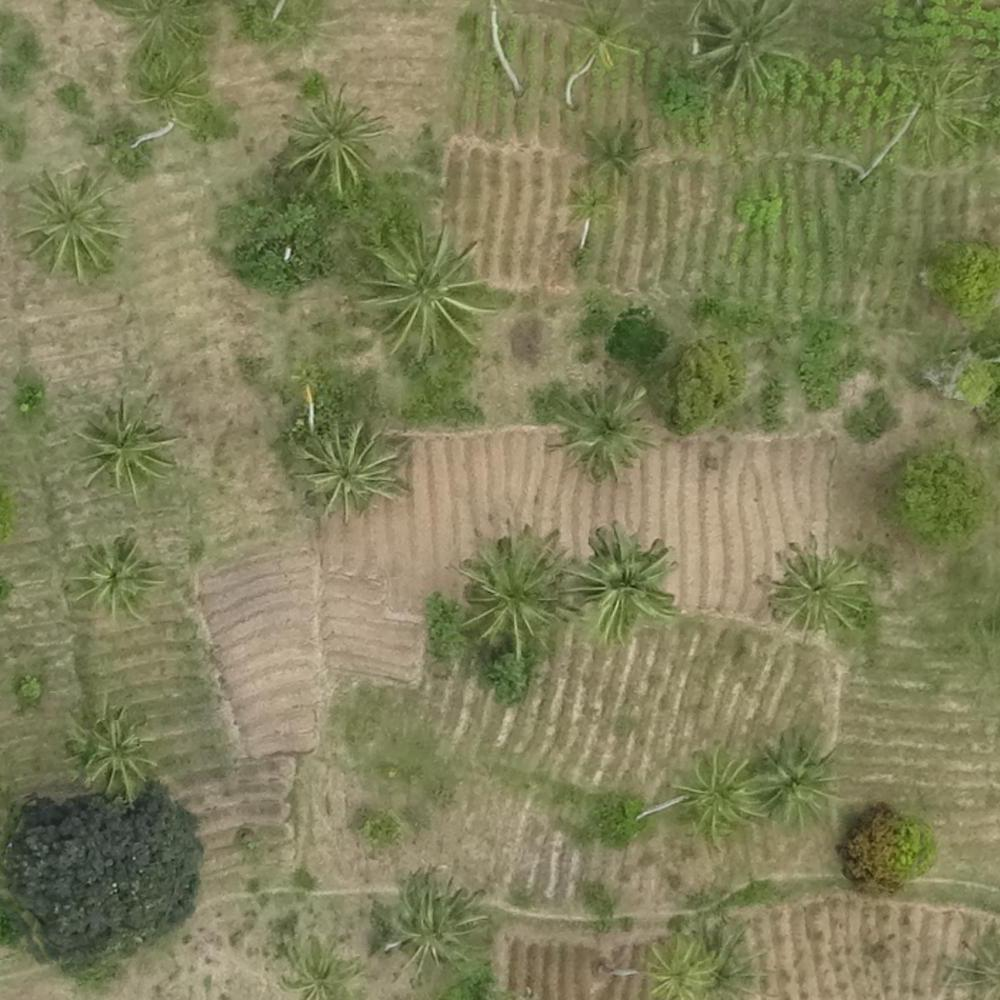Palm: (367, 233, 485, 352), (21, 166, 126, 278), (695, 1, 810, 97), (464, 540, 564, 646), (571, 529, 672, 633), (763, 541, 865, 636), (379, 881, 483, 972), (282, 90, 377, 188), (297, 422, 397, 515), (76, 398, 175, 486), (751, 733, 837, 822), (557, 383, 643, 469), (71, 712, 163, 791), (71, 538, 161, 618), (676, 750, 759, 835), (642, 935, 719, 998), (284, 943, 357, 999)
